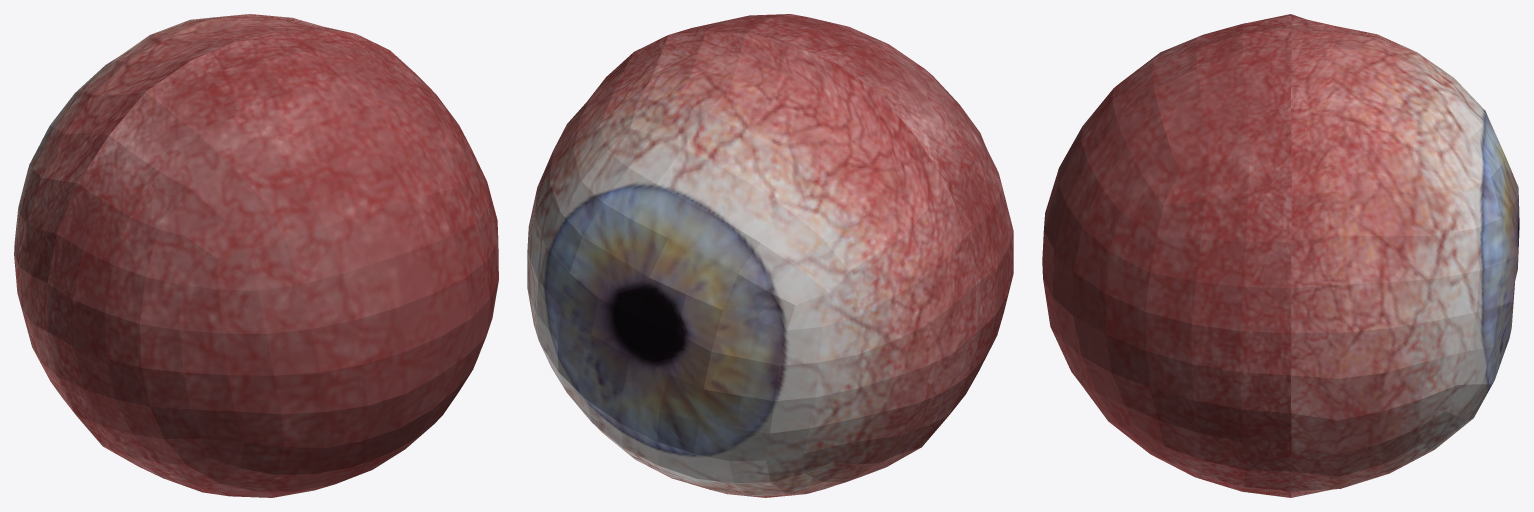
Rendered from MatNai.fbx.
3 views of the same model, side by side, from view 1: azimuth 30°, elevation 25°; view 2: azimuth 150°, elevation 25°; view 3: azimuth 270°, elevation 25° (orthographic).
Parts seen in each view (by area): view 1: MatNaiChaChaCha; view 2: MatNaiChaChaCha; view 3: MatNaiChaChaCha.
Boxes of the visible parts, left/top/right/bottom form: MatNaiChaChaCha: left=14, top=14, right=498, bottom=497; MatNaiChaChaCha: left=527, top=14, right=1013, bottom=497; MatNaiChaChaCha: left=1042, top=14, right=1519, bottom=497.
Size of the model in its own units: 1.07 by 1.06 by 1.07.
Materials: 1 (1 with a texture image).
